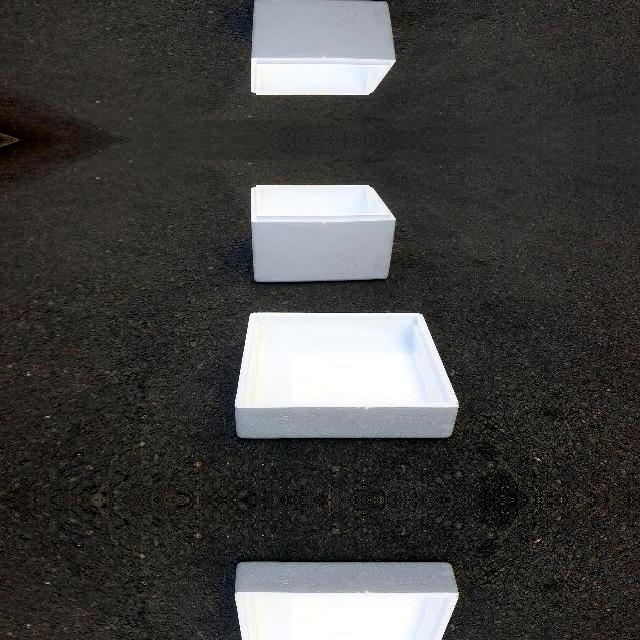Styrofoam: (233, 311, 459, 439), (235, 312, 459, 438), (233, 561, 459, 640), (235, 562, 459, 640), (249, 182, 397, 282), (249, 0, 397, 97), (251, 184, 396, 282), (251, 0, 396, 96)
